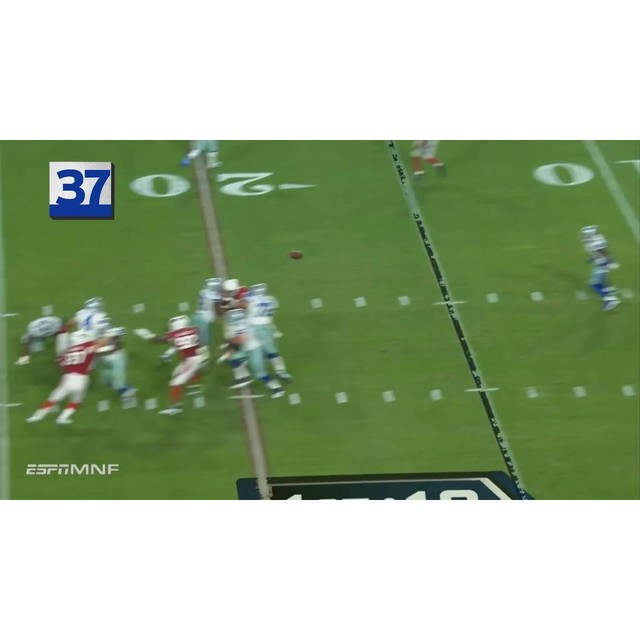american-football-player: (27, 331, 96, 428), (220, 307, 284, 397), (151, 314, 209, 412), (246, 282, 293, 381), (92, 315, 140, 408), (15, 307, 69, 366), (189, 276, 225, 349), (181, 142, 223, 169)
